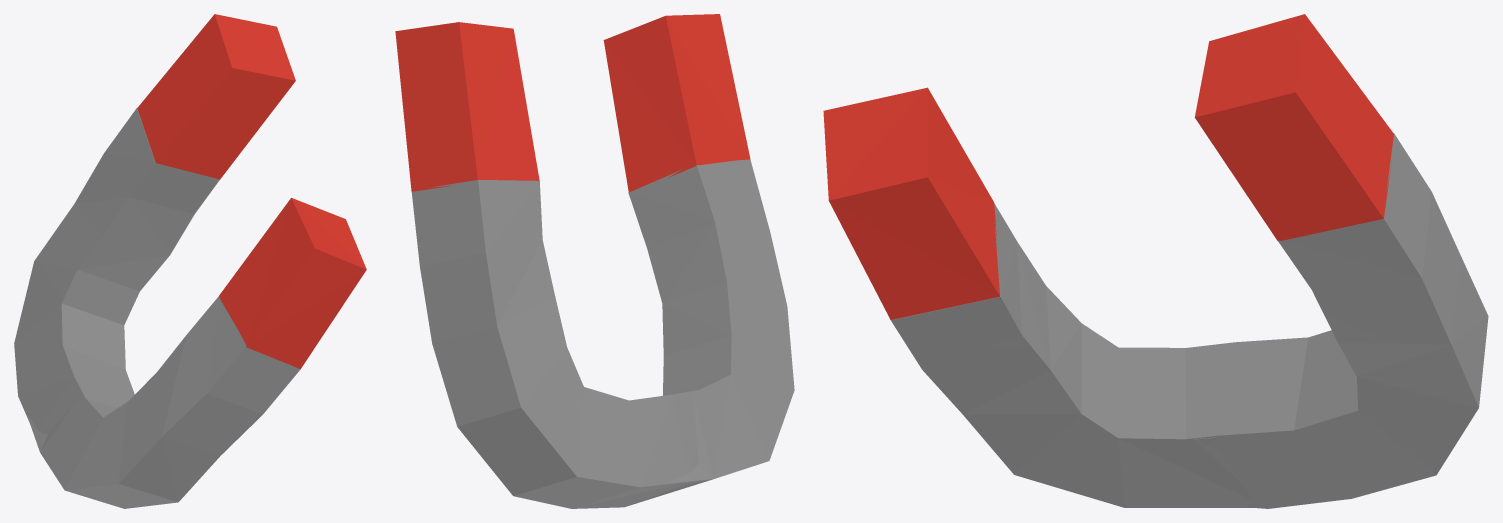
File: glb.glb
The picture shows the model from 3 angles, left to right: view 1: azimuth 30°, elevation 25°; view 2: azimuth 150°, elevation 25°; view 3: azimuth 270°, elevation 25°; orthographic projection. The views are drawn at different scales.
Parts seen in each view (by area): view 1: node_MeshObject1809554944-PolyPaper22_0; view 2: node_MeshObject1809554944-PolyPaper22_0; view 3: node_MeshObject1809554944-PolyPaper22_0.
Boxes of the visible parts, x1,y1,x2,y2 form: node_MeshObject1809554944-PolyPaper22_0: [14, 14, 366, 508]; node_MeshObject1809554944-PolyPaper22_0: [395, 14, 794, 508]; node_MeshObject1809554944-PolyPaper22_0: [823, 14, 1488, 508].
Bounding box in the file's own units: 0.8043 × 1.17 × 1.17.
